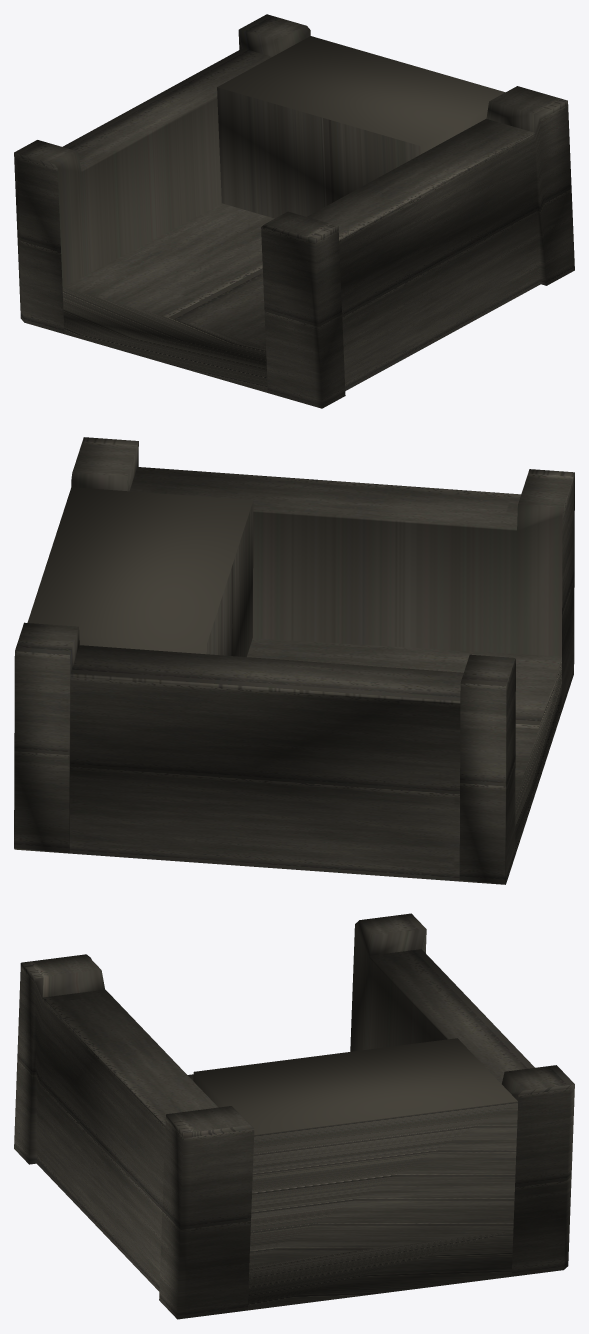
File: cube.1302_lev2.glb
The picture shows the model from 3 angles, top to bottom: view 1: azimuth 30°, elevation 25°; view 2: azimuth 150°, elevation 25°; view 3: azimuth 270°, elevation 25°; orthographic projection. The views are drawn at different scales.
Parts seen in each view (by area): view 1: cube.1302_lev2; view 2: cube.1302_lev2; view 3: cube.1302_lev2.
Boxes of the visible parts, x1=… form: cube.1302_lev2: x1=14, y1=14, x2=574, y2=408; cube.1302_lev2: x1=14, y1=437, x2=574, y2=884; cube.1302_lev2: x1=14, y1=913, x2=574, y2=1319.
Size of the model in its own units: 0.4579 by 0.1793 by 0.4487.
1 material, 1 textured.
